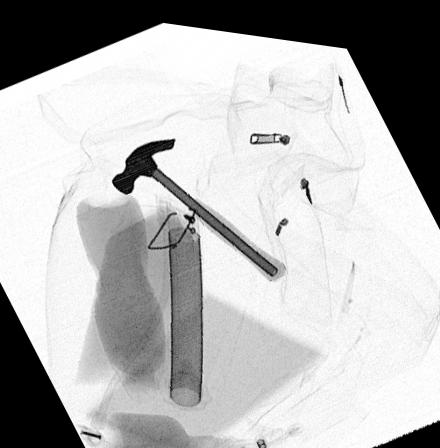Hammer: (109, 131, 289, 275)
